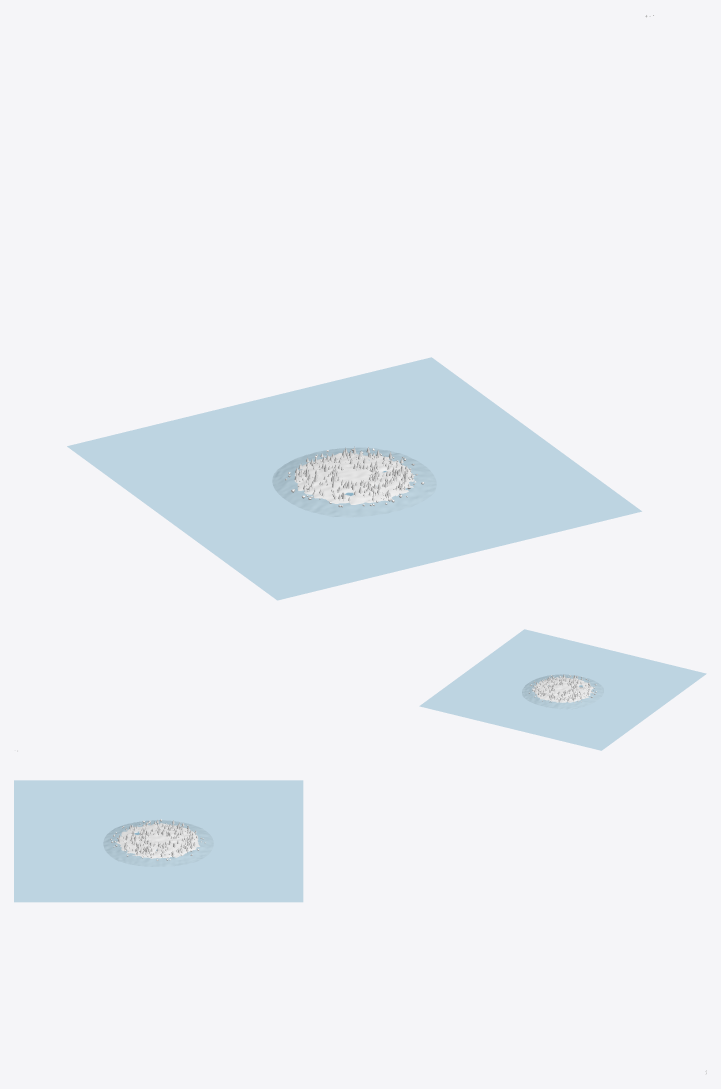
Rendered from forest_island_map.glb.
3 views of the same model, one above another, from view 1: azimuth 30°, elevation 25°; view 2: azimuth 150°, elevation 25°; view 3: azimuth 270°, elevation 25° (orthographic). The views are drawn at different scales.
Visible parts, largest first — view 1: Ocean, IslandTerrain; view 2: Ocean, IslandTerrain; view 3: Ocean, IslandTerrain.
Part boxes in pixels (box(x1,y1,x2,y2)): Ocean: box(67, 357, 641, 599); IslandTerrain: box(272, 447, 436, 517); Ocean: box(420, 629, 705, 750); IslandTerrain: box(522, 674, 603, 709); Ocean: box(14, 780, 302, 901); IslandTerrain: box(103, 820, 213, 866).
Size of the model in its own units: 1275 by 19.48 by 1265.
